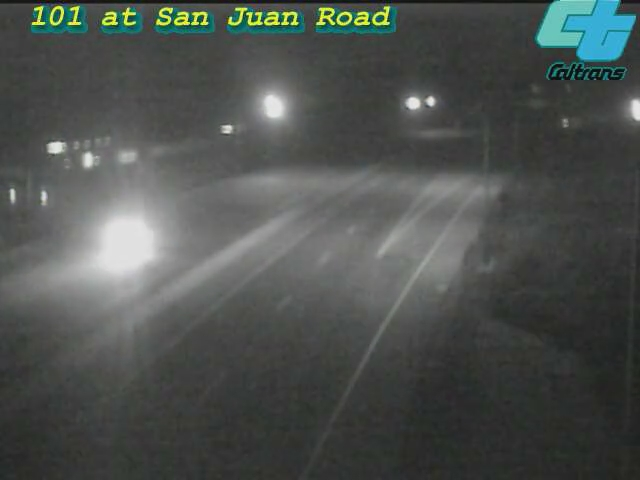vehicle: (80, 205, 160, 285), (610, 86, 640, 136)
